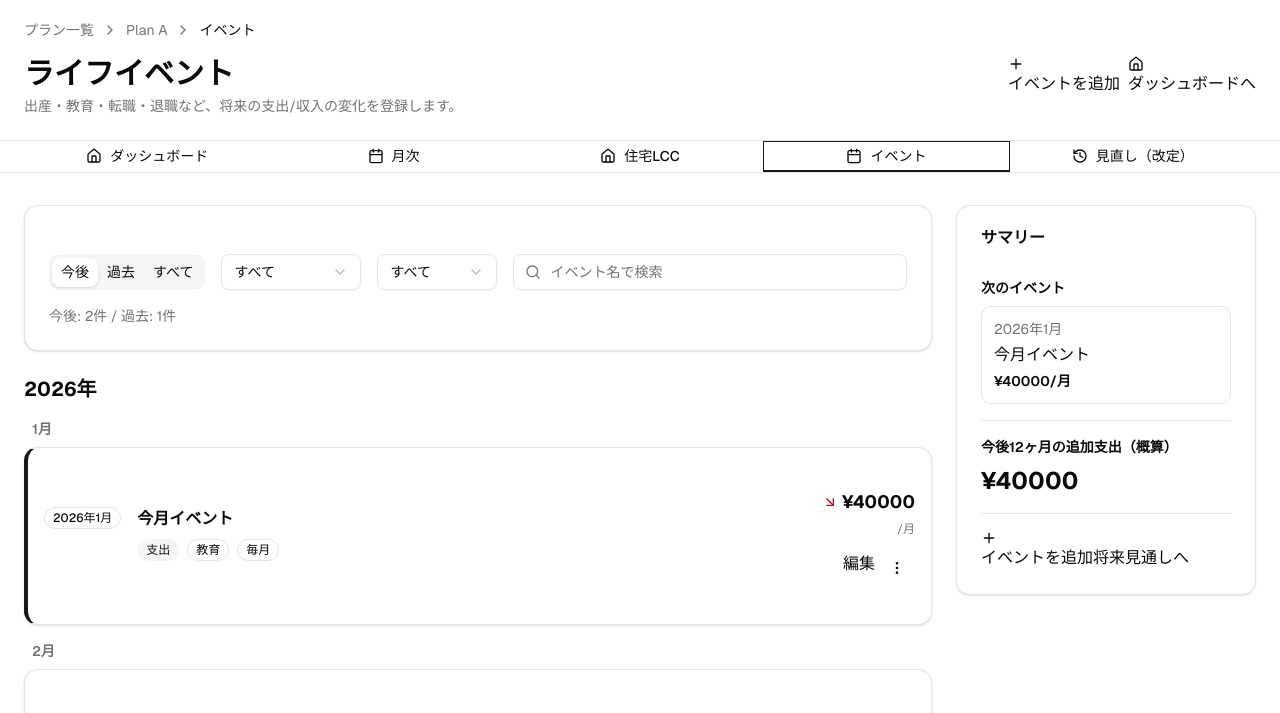
Test: EventsPage › filters events by time tabs
The image size is (1280, 713).
Click the tab "過去": (121, 272) [98,258,144,286]
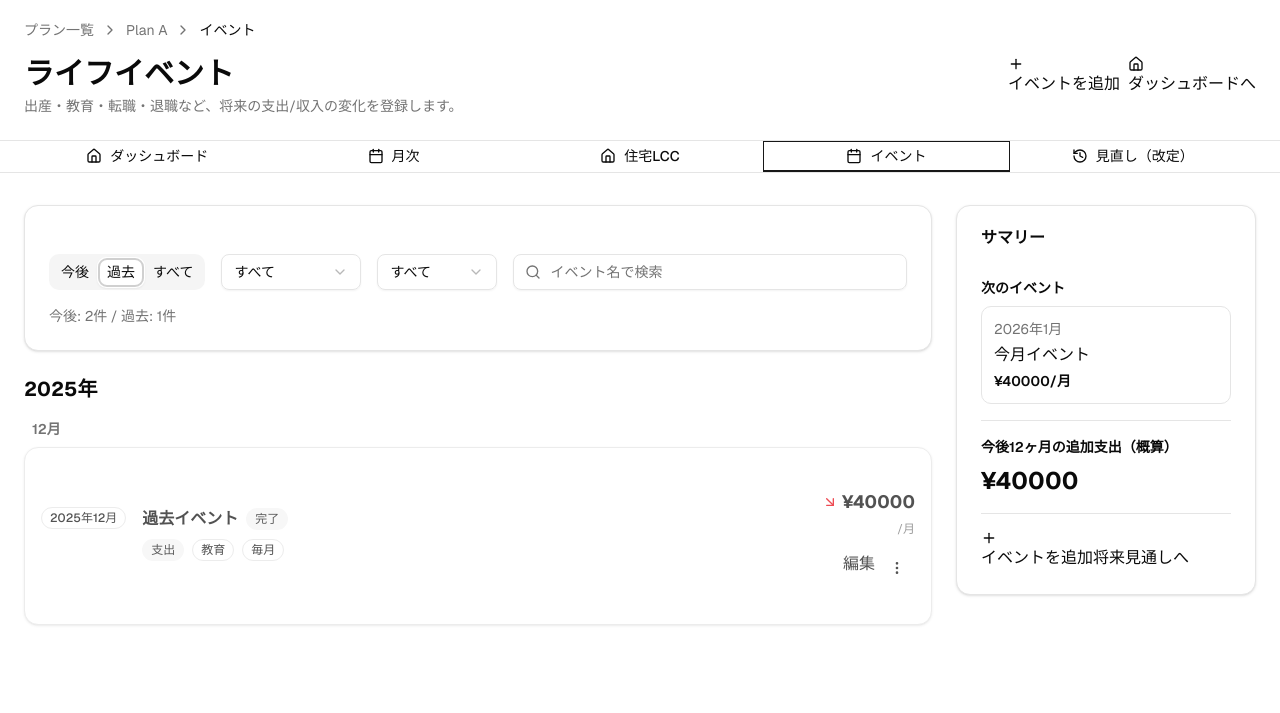
Expected: the link to "/plans/plan-123/events/past/edit" is shown, [843,552,875,584]
Click the tab "すべて": (173, 272) [144,258,202,286]
(page scrolled)
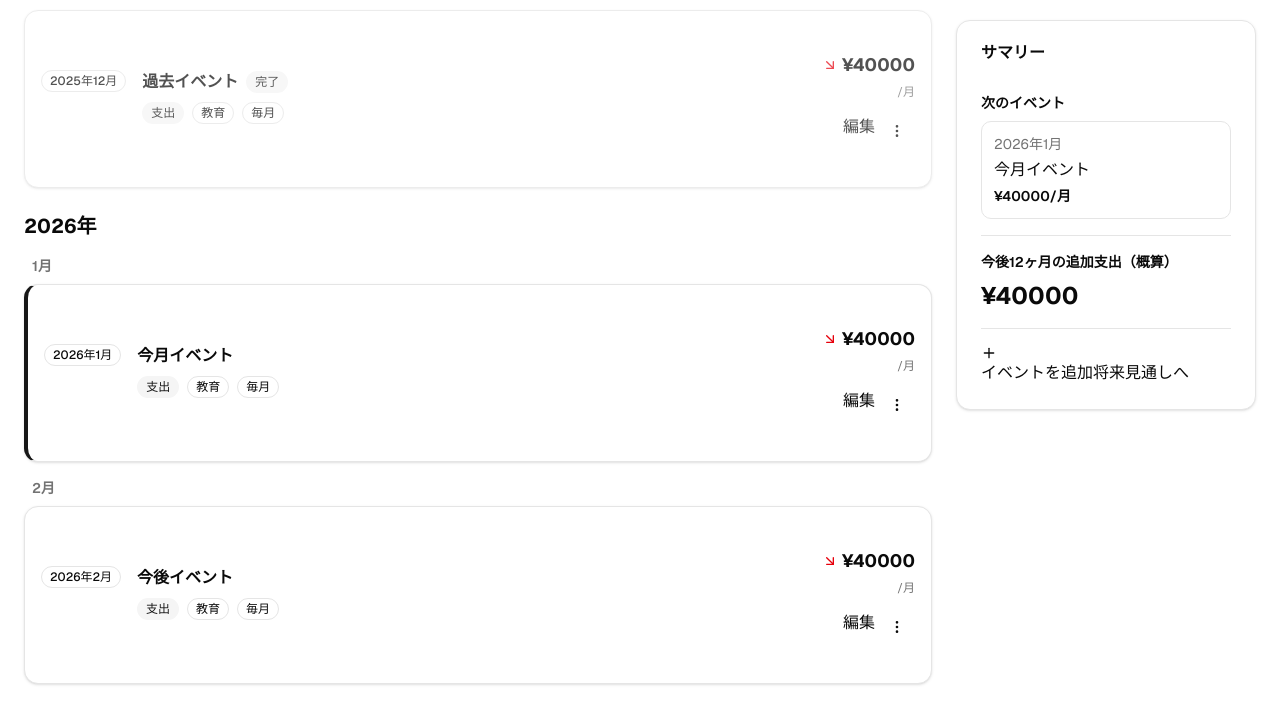
Expected: the link to "/plans/plan-123/events/past/edit" is shown, [843,115,875,147]
Result: the link to "/plans/plan-123/events/future/edit" is shown at [843,611,875,643]
